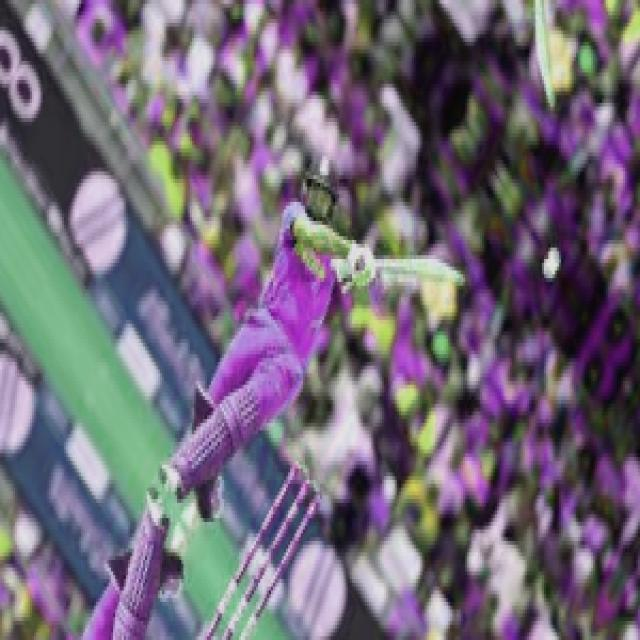toe: (444, 259, 466, 294)
